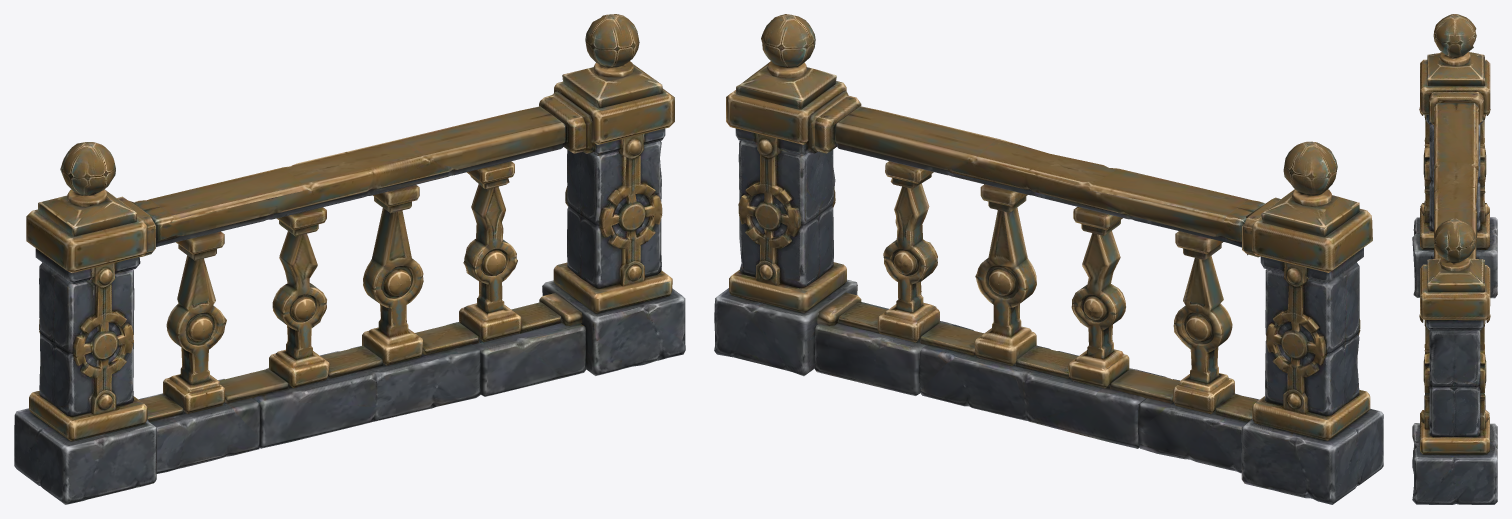
File: tower_railing.glb
3 renders of one model, left to right at view 1: azimuth 30°, elevation 25°; view 2: azimuth 150°, elevation 25°; view 3: azimuth 270°, elevation 25°, orthographic. The views are drawn at different scales.
Size of the model in its own units: 0.9497 by 0.4854 by 0.1411.
1 material, 1 textured.
